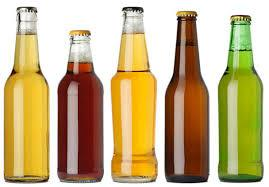Glass bottle: (0, 3, 269, 187)
